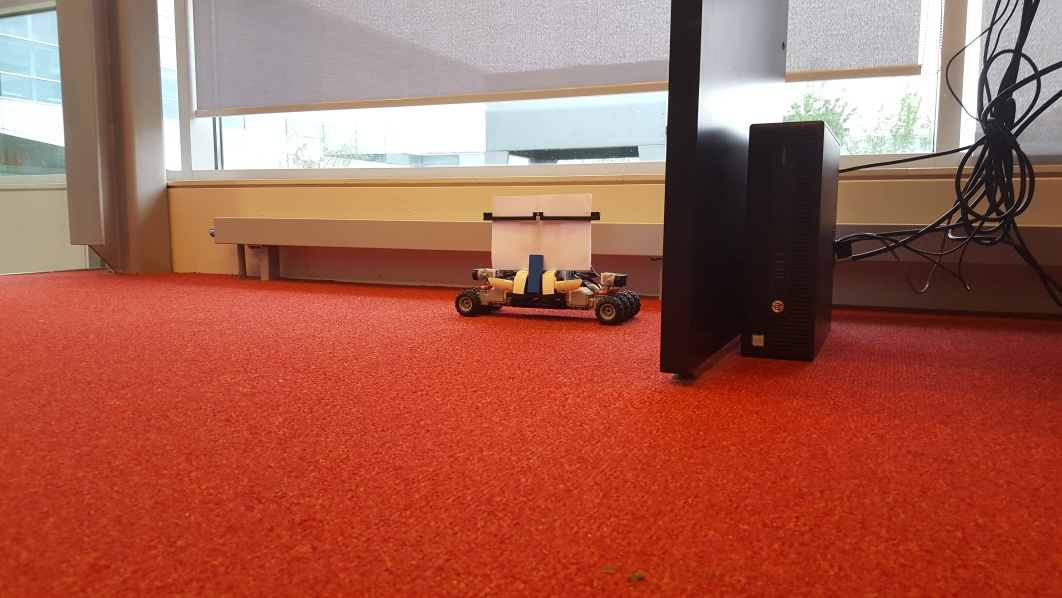car: (455, 191, 645, 328)
